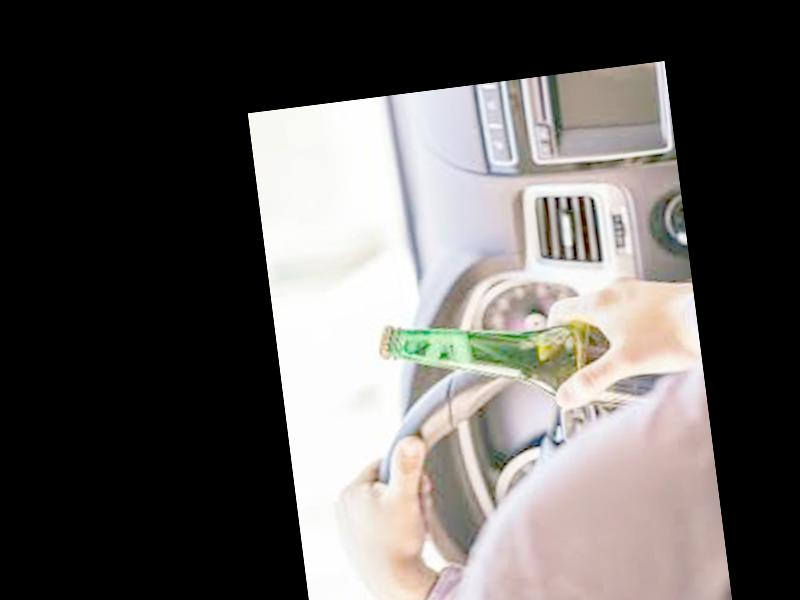Beer: (374, 290, 674, 434)
